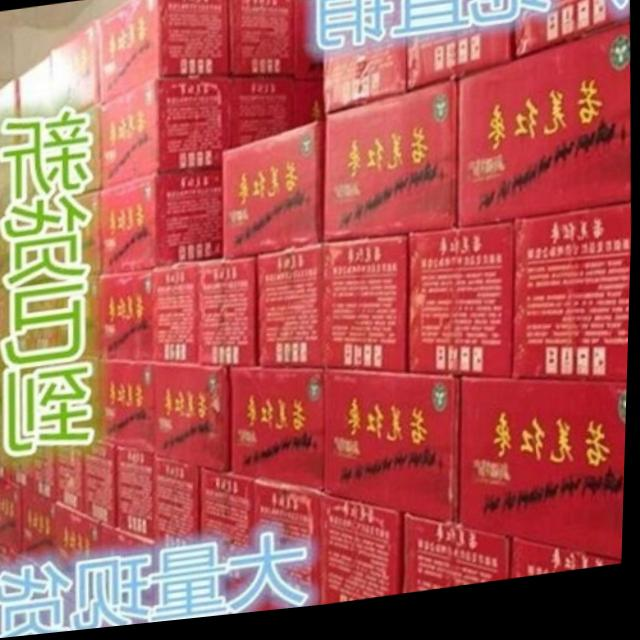box: (459, 36, 632, 237), (461, 386, 630, 573), (514, 216, 633, 397), (326, 89, 458, 249), (328, 376, 461, 532), (411, 233, 513, 388), (100, 81, 231, 189), (224, 127, 326, 263), (97, 0, 228, 104), (101, 174, 223, 275), (231, 372, 326, 499), (325, 243, 407, 381), (407, 0, 514, 99), (325, 0, 406, 120), (252, 484, 323, 618), (323, 501, 406, 612), (197, 473, 256, 623), (406, 522, 511, 601), (157, 366, 231, 478), (515, 0, 630, 71), (258, 252, 324, 373), (199, 262, 260, 370), (98, 361, 158, 456), (227, 0, 293, 80), (102, 525, 156, 622), (53, 504, 104, 603), (158, 459, 203, 568), (51, 23, 99, 123), (101, 274, 153, 362), (515, 549, 625, 590), (55, 107, 100, 203), (155, 269, 199, 367), (232, 83, 293, 152), (55, 192, 101, 280), (45, 358, 95, 438), (119, 449, 159, 543), (18, 56, 57, 144), (57, 278, 100, 357), (14, 283, 56, 355), (86, 437, 118, 531), (16, 208, 55, 284), (19, 130, 54, 213), (0, 356, 42, 425), (292, 4, 325, 86), (24, 490, 57, 571), (60, 433, 87, 515), (34, 428, 59, 501), (12, 419, 37, 488), (0, 479, 22, 555), (294, 86, 327, 134), (0, 79, 17, 155), (0, 220, 17, 286), (0, 151, 16, 221), (0, 413, 13, 480), (0, 287, 11, 353)
